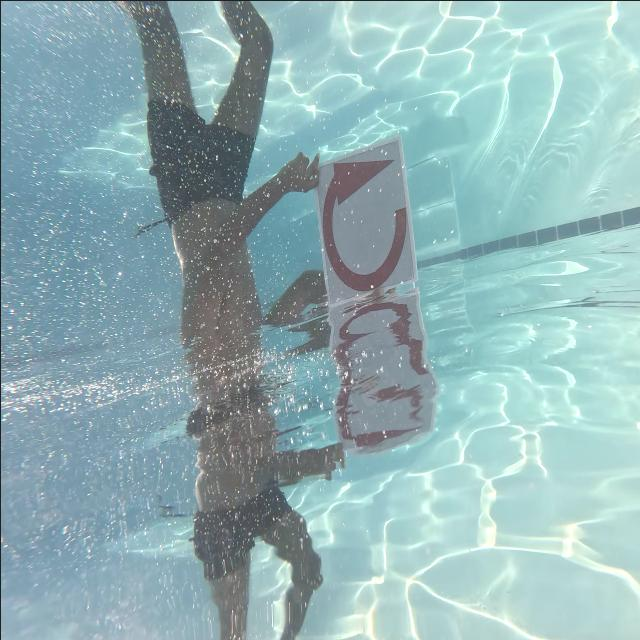red_side: (308, 153, 419, 299)
